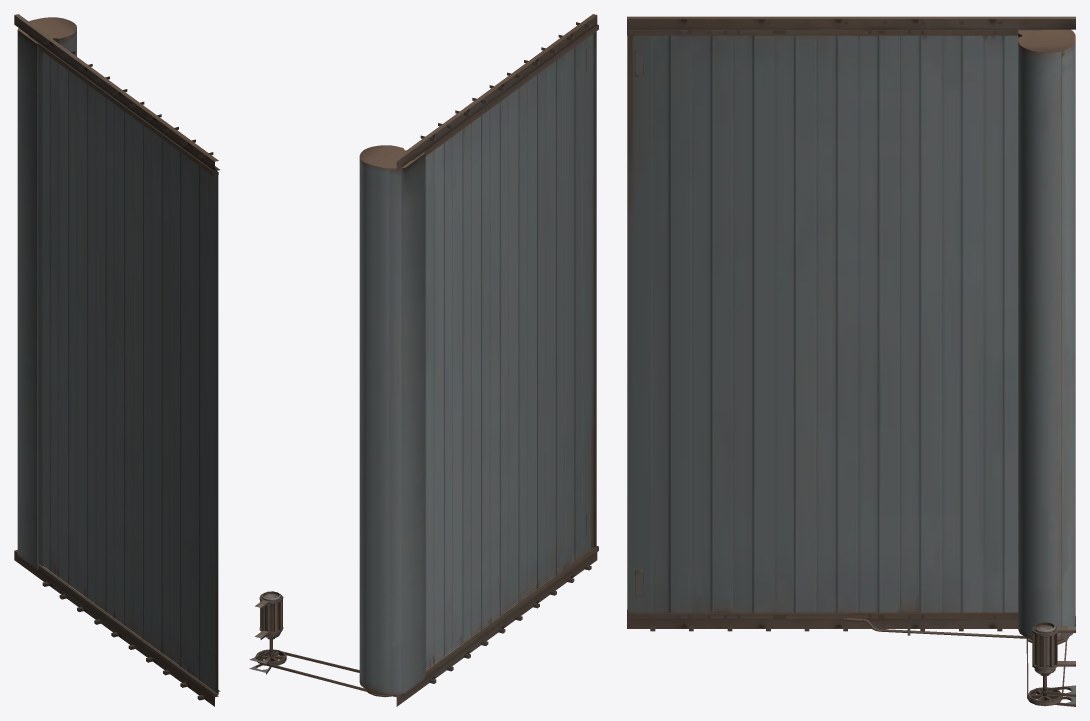
The picture shows the model from 3 angles, left to right: view 1: azimuth 30°, elevation 25°; view 2: azimuth 150°, elevation 25°; view 3: azimuth 270°, elevation 25°; orthographic projection. The views are drawn at different scales.
Parts seen in each view (by area): view 1: body0_model0_lod0_mesh0; view 2: body0_model0_lod0_mesh0; view 3: body0_model0_lod0_mesh0.
Boxes of the visible parts, box(x1,y1,x2,y2) form: body0_model0_lod0_mesh0: box(14, 14, 220, 706); body0_model0_lod0_mesh0: box(249, 14, 598, 706); body0_model0_lod0_mesh0: box(627, 16, 1075, 706).
Size of the model in its own units: 58.18 by 192 by 128.
Materials: 1 (1 with a texture image).
